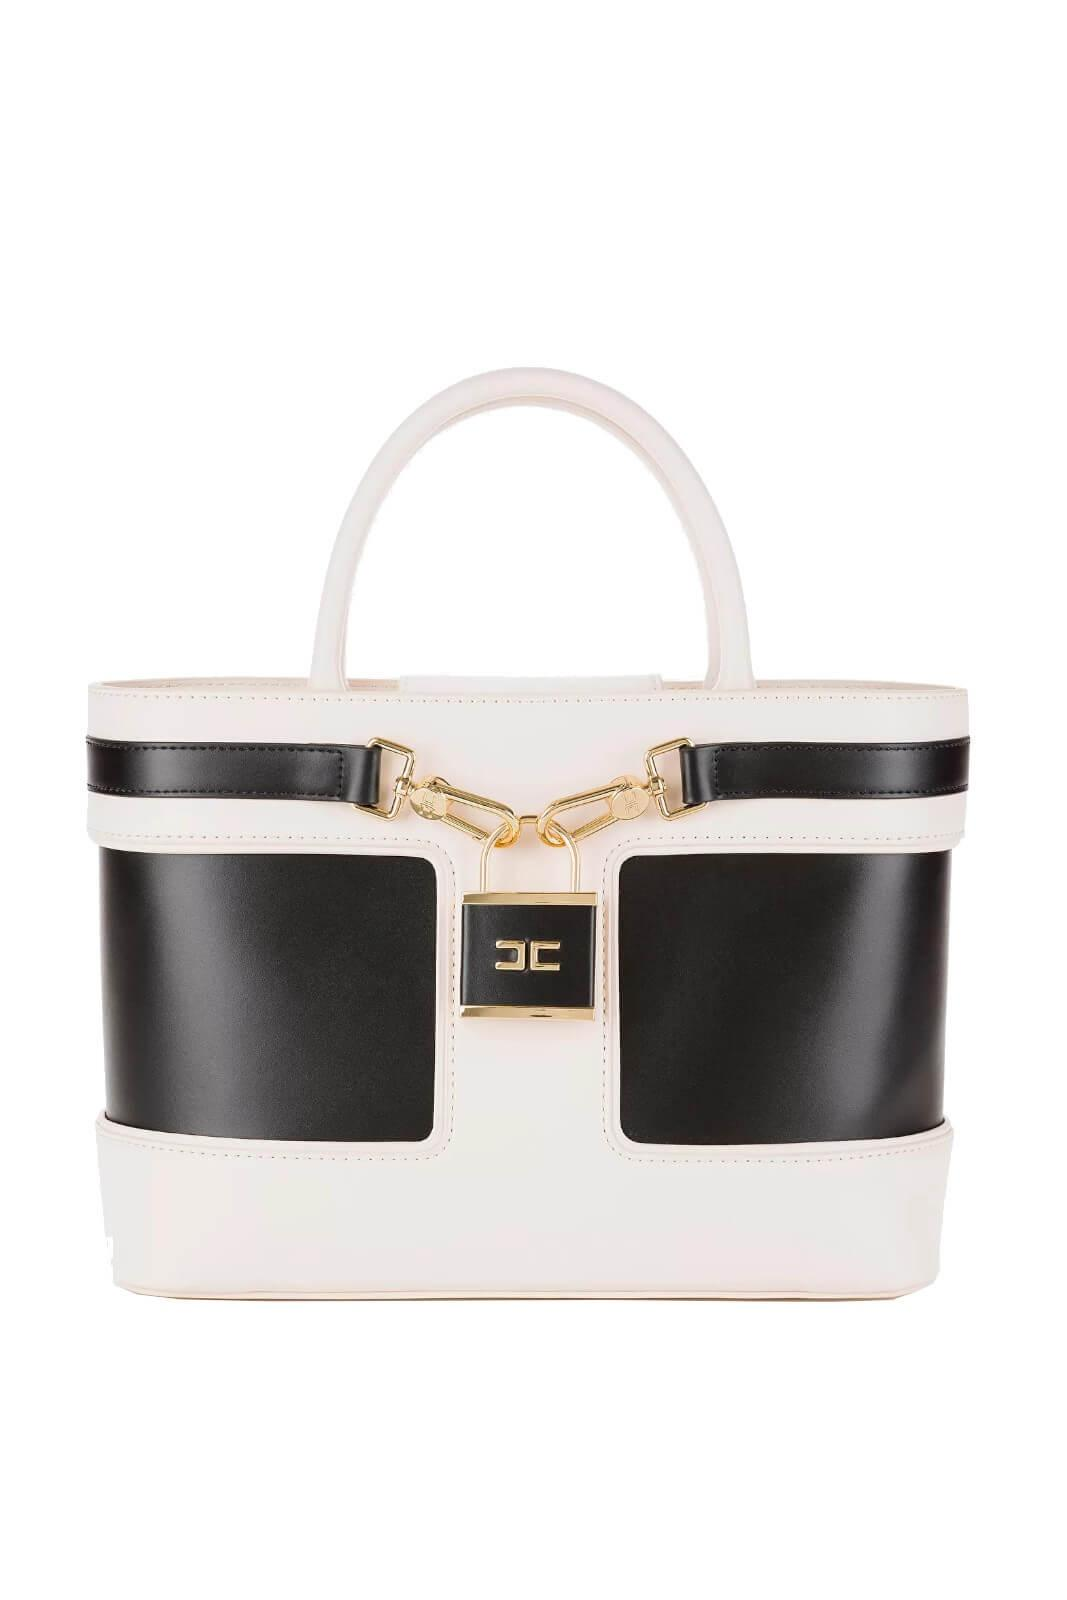ELISABETTA-FRANCHI: (483, 915, 582, 996)
